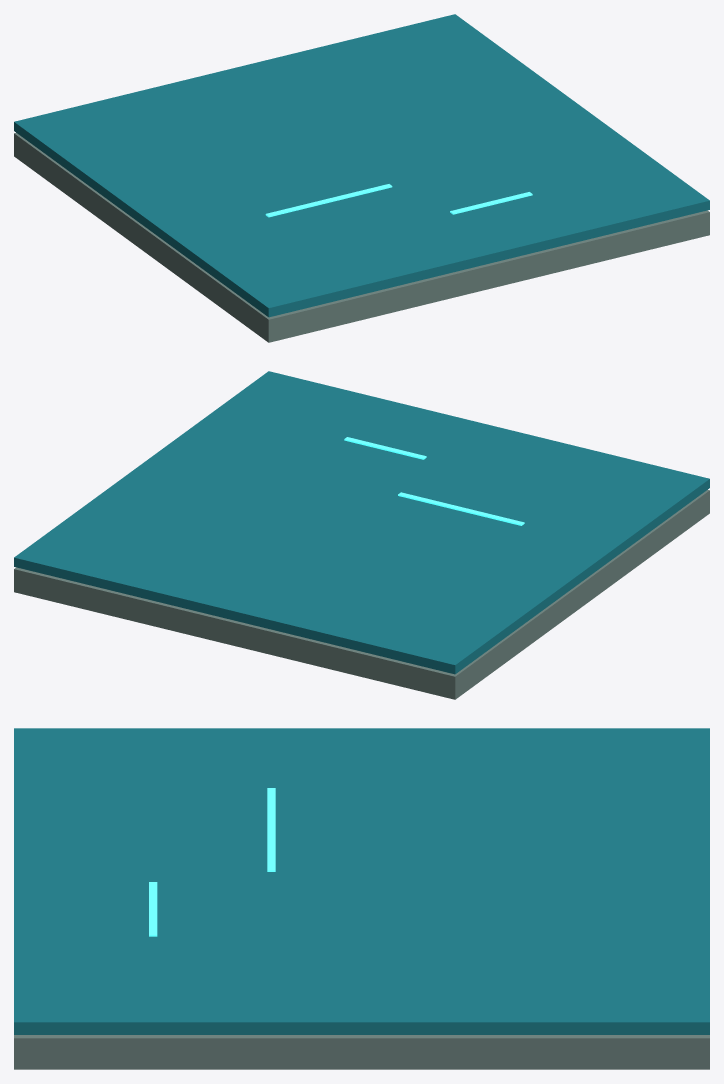
File: water_tile.glb
3 views of the same model, one above another, from view 1: azimuth 30°, elevation 25°; view 2: azimuth 150°, elevation 25°; view 3: azimuth 270°, elevation 25° (orthographic). The views are drawn at different scales.
Parts seen in each view (by area): view 1: Water, Bed, WaterRipple; view 2: Water, Bed, WaterRipple; view 3: Water, Bed, WaterRipple.
Part boxes in pixels (<box>): Water: <box>14,14,709,317</box>; Bed: <box>14,133,709,342</box>; WaterRipple: <box>265,184,392,217</box>; Water: <box>14,371,709,674</box>; Bed: <box>14,490,709,699</box>; WaterRipple: <box>398,492,524,525</box>; Water: <box>14,728,709,1034</box>; Bed: <box>14,1035,709,1069</box>; WaterRipple: <box>267,788,275,871</box>.
Bounding box in the file's own units: 2 × 0.157 × 2.
